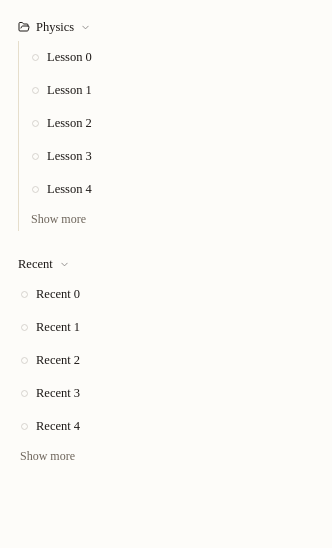
Test case: keeps unassigned chats in a peer Recent section with independent five-row limits
Check: the text "Recent 4" is shown, box [36,419,80,433]
Check: the text "Recent 5" is not shown
Click the 2nd button "Show more": (48, 456) [12,444,83,468]
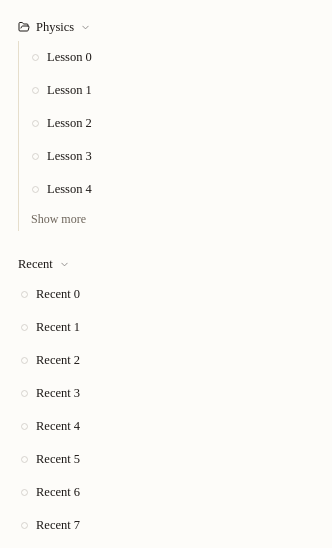
Check: the text "Recent 7" is shown, box [36,518,80,532]
